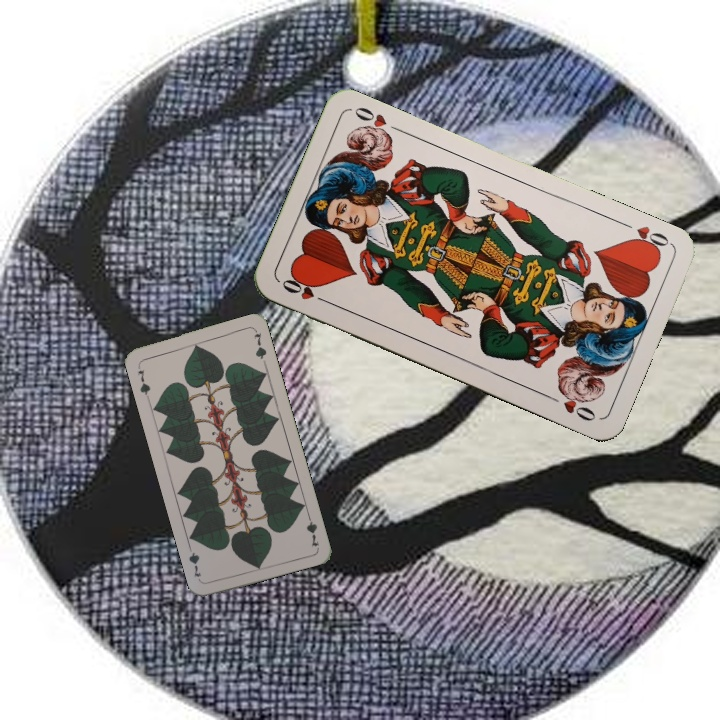G7: (302, 509, 321, 549), (133, 365, 153, 401)
HO: (617, 217, 672, 256), (278, 273, 333, 307)
